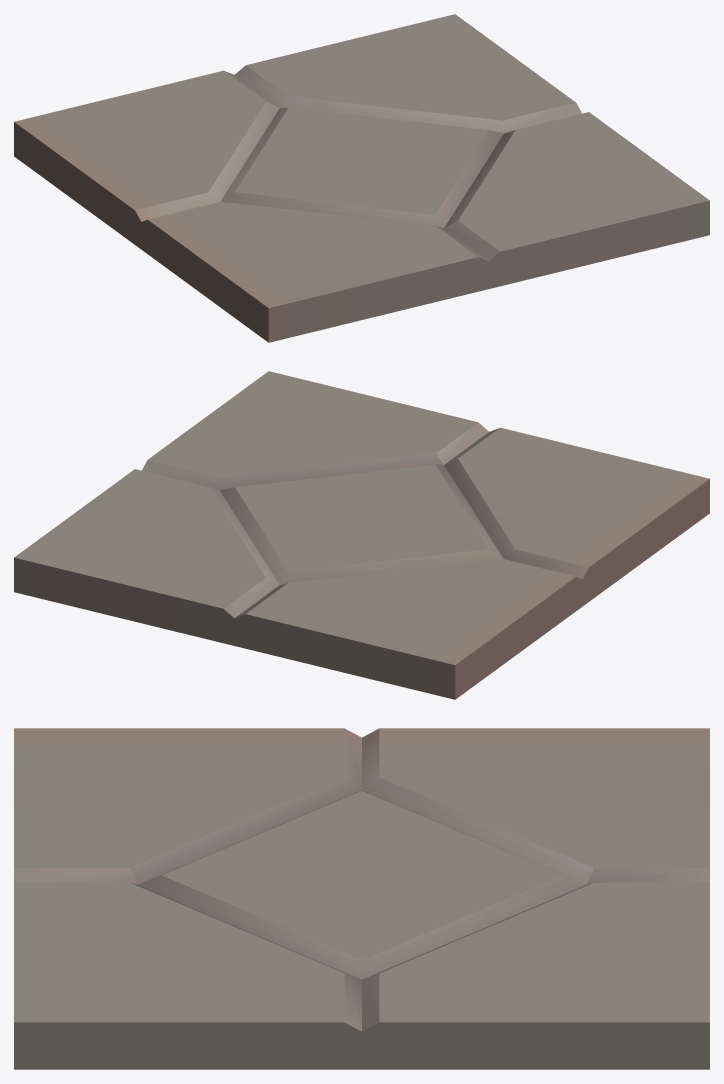
File: floor_tile_small.glb
3 renders of one model, top to bottom at view 1: azimuth 30°, elevation 25°; view 2: azimuth 150°, elevation 25°; view 3: azimuth 270°, elevation 25°, orthographic. The views are drawn at different scales.
Visible parts, largest first — view 1: floor_tile_small; view 2: floor_tile_small; view 3: floor_tile_small.
Part boxes in pixels (left/top/right/bottom): floor_tile_small: left=14, top=14, right=709, bottom=342; floor_tile_small: left=14, top=371, right=709, bottom=699; floor_tile_small: left=14, top=728, right=709, bottom=1069.
Size of the model in its own units: 2 by 0.1499 by 2.
1 material, 1 textured.
